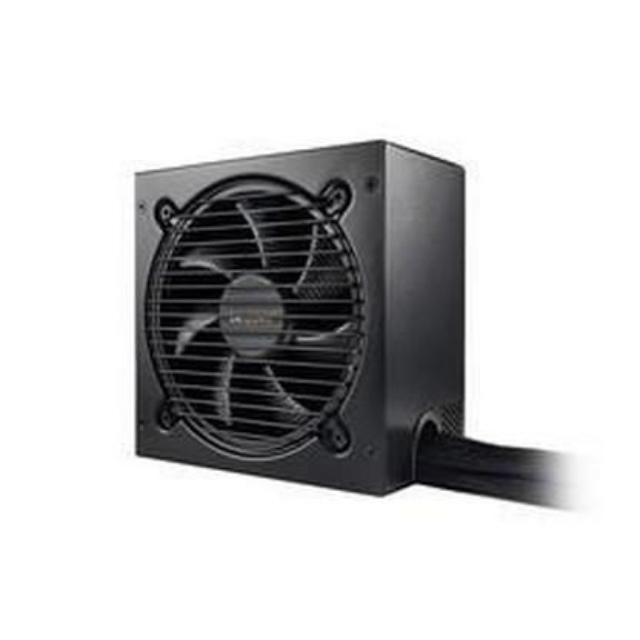PSU: (123, 136, 475, 504)
